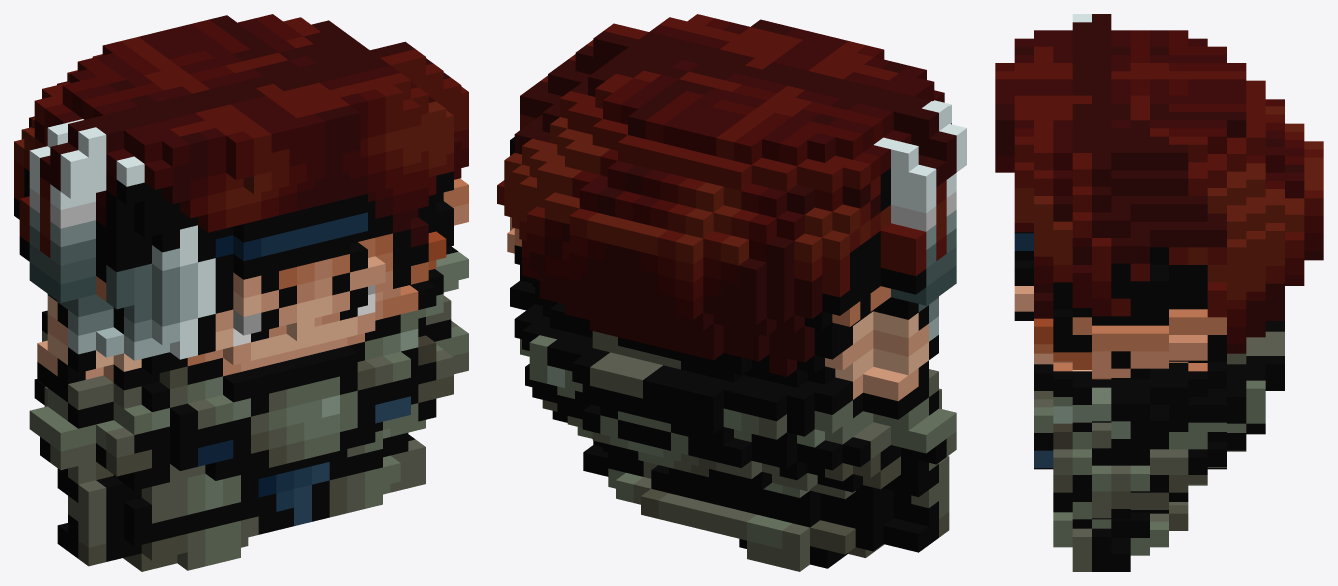
The model's file is Icon_113_03.obj.
3 views of the same model, side by side, from view 1: azimuth 30°, elevation 25°; view 2: azimuth 150°, elevation 25°; view 3: azimuth 270°, elevation 25° (orthographic). The views are drawn at different scales.
Bounding box in the file's own units: 2.3 × 2.4 × 1.7.
